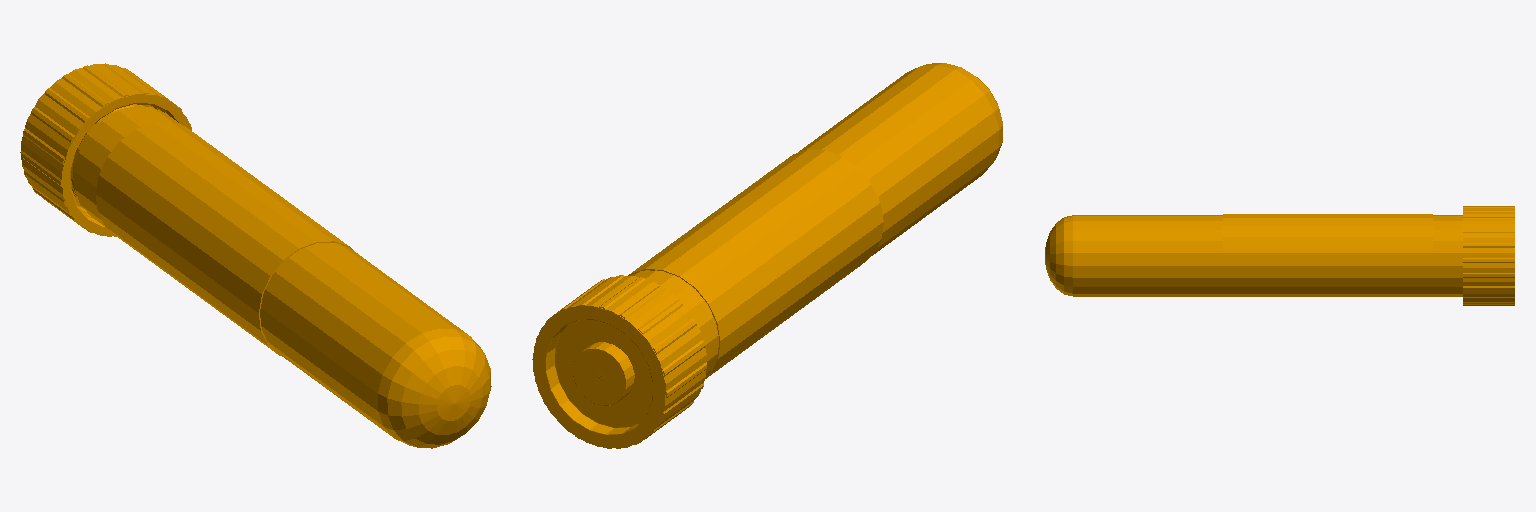
robot.urdf — tube:
<?xml version="1.0"?>
<robot name="tube">
  <link name="base_link">
    <contact>
      <lateral_friction value="1.0"/>
      <rolling_friction value="0.004"/>
      <contact_cfm value="0.0"/>
      <contact_erp value="1.0"/>
    </contact>
    <inertial>
      <mass value="0.025"/>
      <inertia ixx="1" ixy="0" ixz="0" iyy="1" iyz="0" izz="1"/>
    </inertial>
    <visual>
      <geometry>
        <mesh filename="./meshes/tube.obj"/>
      </geometry>
    </visual>
    <collision>
      <geometry>
        <mesh filename="./meshes/tube.obj"/>
      </geometry>
    </collision>
  </link>
</robot>

--- Facts derived from the render (not from the file) ---
Views: 3 orthographic renders of the robot side by side, from view 1: azimuth 30°, elevation 25°; view 2: azimuth 150°, elevation 25°; view 3: azimuth 270°, elevation 25°.
Model tube with 1 links and 0 joints (none), rooted at base_link, posed all joints at 0.
Visible links, largest first — view 1: base_link; view 2: base_link; view 3: base_link.
Boxes of the visible links, box(x1,y1,x2,y2) form: base_link: box(20, 63, 491, 448); base_link: box(532, 63, 1002, 448); base_link: box(1045, 206, 1514, 305).
Size in the robot's own frame: 0.0281 by 0.133 by 0.0281 metres.
1 mesh visuals loaded from 1 distinct referenced files (1 OBJ).